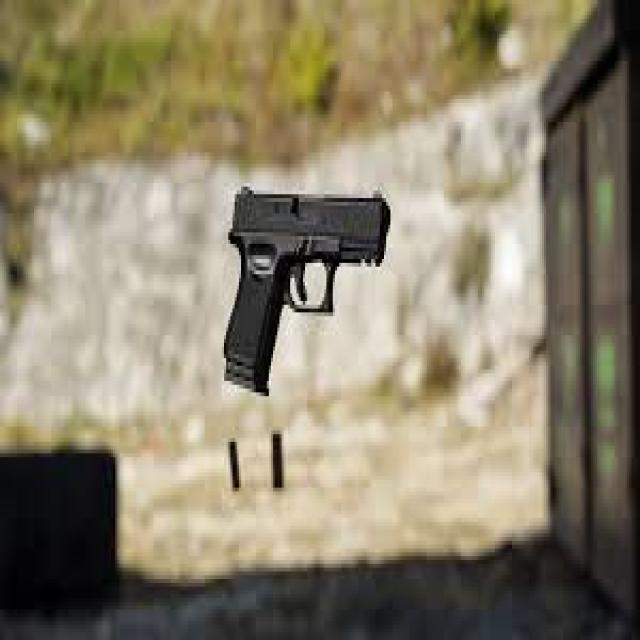gun: (213, 161, 410, 423)
